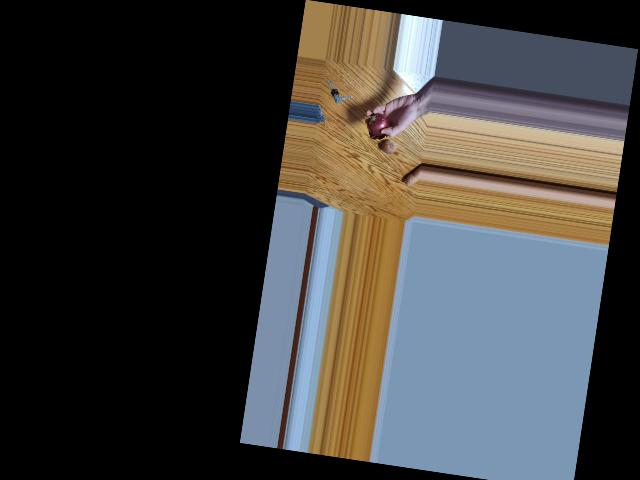onion: (380, 132, 398, 156)
